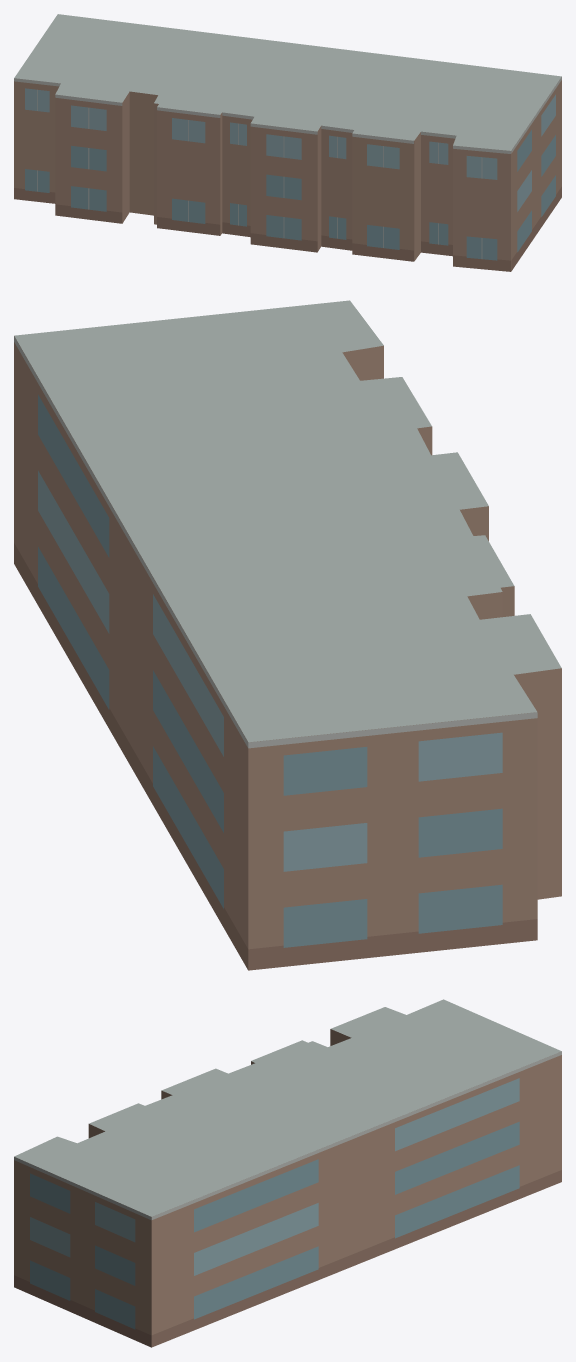
Rendered from survey-upis-32590704.glb.
3 views of the same model, one above another, from view 1: azimuth 30°, elevation 25°; view 2: azimuth 150°, elevation 25°; view 3: azimuth 270°, elevation 25° (orthographic). The views are drawn at different scales.
Parts seen in each view (by area): view 1: survey-upis-32590704.tmp; view 2: survey-upis-32590704.tmp; view 3: survey-upis-32590704.tmp.
Boxes of the visible parts, x1,y1,x2,y2 form: survey-upis-32590704.tmp: (14, 14, 561, 271); survey-upis-32590704.tmp: (14, 300, 561, 970); survey-upis-32590704.tmp: (14, 999, 561, 1347).
Bounding box in the file's own units: 32.67 × 9.15 × 34.77.
